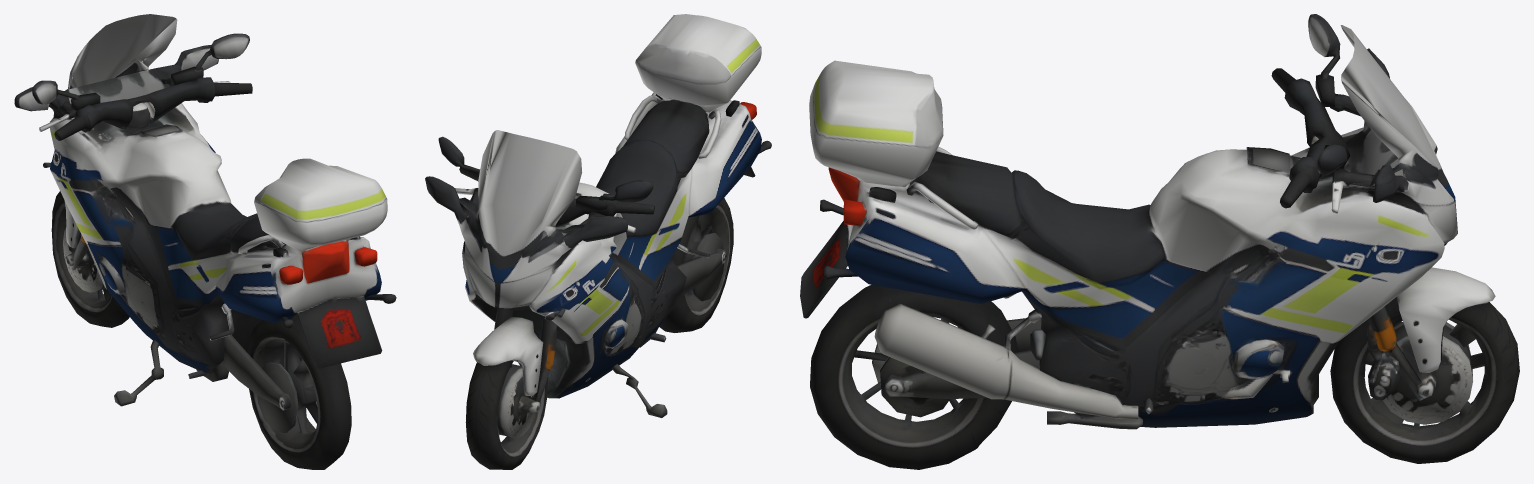
File: m_moto_lod1.fbx
3 views of the same model, side by side, from view 1: azimuth 30°, elevation 25°; view 2: azimuth 150°, elevation 25°; view 3: azimuth 270°, elevation 25° (orthographic). The views are drawn at different scales.
Visible parts, largest first — view 1: m_moto; view 2: m_moto; view 3: m_moto.
Boxes of the visible parts, x1,y1,x2,y2 form: m_moto: (14,14,396,469); m_moto: (425,14,771,469); m_moto: (800,14,1519,469).
Bounding box in the file's own units: 1.08 × 1.52 × 2.35.
